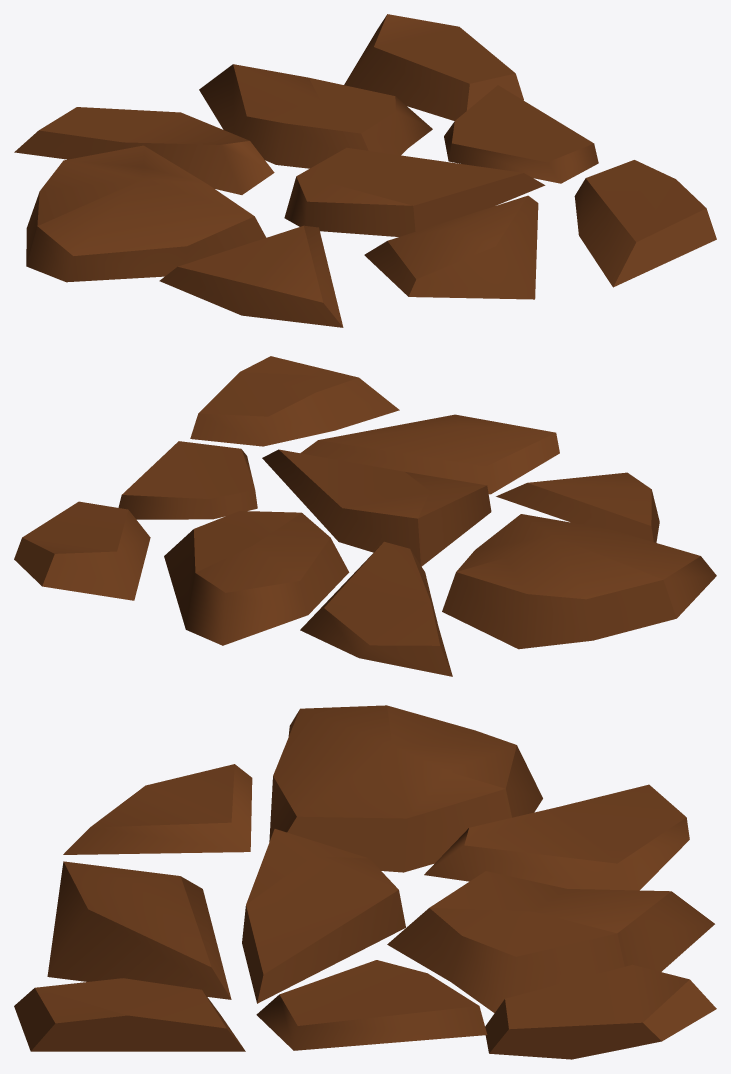
The model's file is Stone_Path_Ending_L.fbx.
3 views of the same model, one above another, from view 1: azimuth 30°, elevation 25°; view 2: azimuth 150°, elevation 25°; view 3: azimuth 270°, elevation 25° (orthographic). The views are drawn at different scales.
Visible parts, largest first — view 1: Stone_Path_Ending_L; view 2: Stone_Path_Ending_L; view 3: Stone_Path_Ending_L.
Boxes of the visible parts, x1,y1,x2,y2 form: Stone_Path_Ending_L: [14, 14, 716, 327]; Stone_Path_Ending_L: [14, 356, 716, 676]; Stone_Path_Ending_L: [14, 705, 716, 1059].
Size of the model in its own units: 102 by 15.07 by 96.34.
